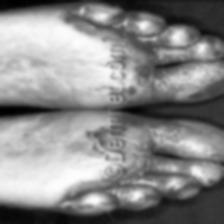Non-Cancerous Skin Condition: (128, 120, 204, 194), (47, 4, 109, 41), (146, 28, 180, 84), (68, 116, 104, 168), (187, 46, 222, 96), (71, 176, 103, 208)
